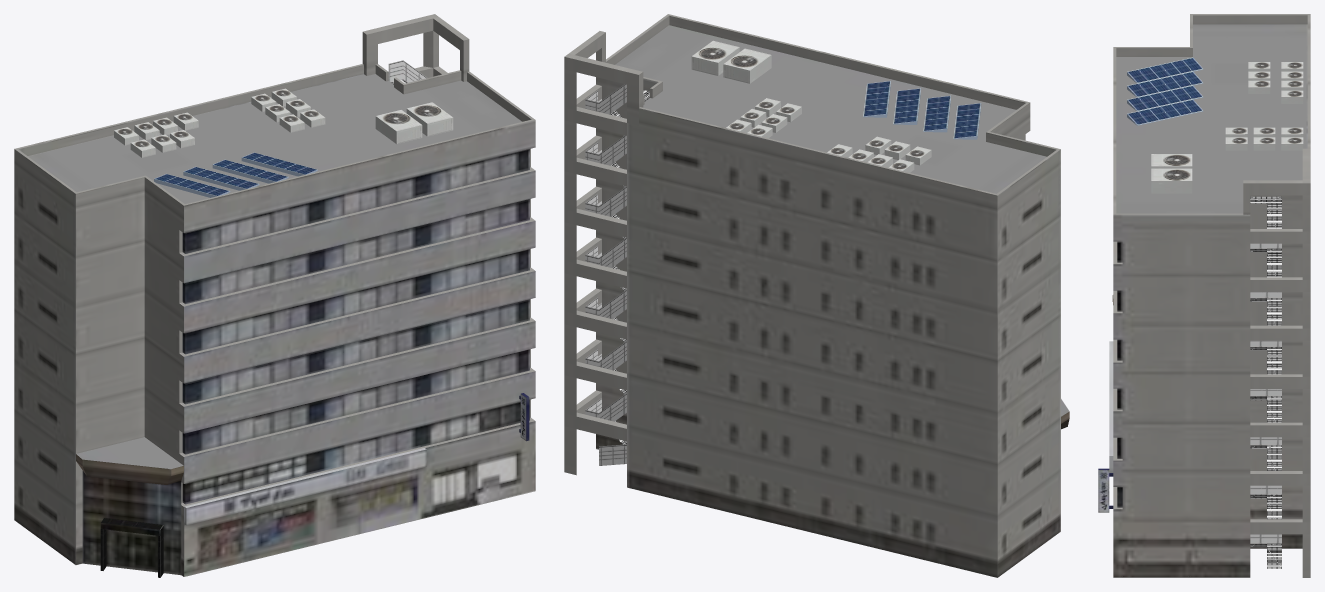
Rendered from jp_building.glb.
The picture shows the model from 3 angles, left to right: view 1: azimuth 30°, elevation 25°; view 2: azimuth 150°, elevation 25°; view 3: azimuth 270°, elevation 25°; orthographic projection. The views are drawn at different scales.
Parts seen in each view (by area): view 1: Plane, Cube.012, Cube.014, Cube.013, Cube.006, Cube.015, top.014, top.015, Cube.011, Cube.009, Cube.008, Cube.010; view 2: Plane, Cube.006, Cube.007, Cube.001, Cube, Cube.003, Cube.002, Cube.005, Cube.004, stairs.003, stairs, stairs.001 (+7 smaller); view 3: Plane, Cube.006, stairs.003, stairs, stairs.001, Cube.007, Cube, Cube.002, Cube.005, Cube.001, Cube.003, Cube.004 (+14 smaller).
Part boxes in pixels (bbox=[...]): Plane: bbox=[14, 64, 535, 576]; Cube.012: bbox=[82, 471, 181, 575]; Cube.014: bbox=[184, 448, 426, 525]; Cube.013: bbox=[76, 437, 183, 484]; Cube.006: bbox=[362, 14, 469, 81]; Cube.015: bbox=[100, 518, 163, 577]; top.014: bbox=[375, 110, 422, 143]; top.015: bbox=[406, 102, 453, 136]; Cube.011: bbox=[241, 152, 317, 176]; Cube.009: bbox=[183, 166, 259, 190]; Cube.008: bbox=[154, 173, 230, 197]; Cube.010: bbox=[212, 159, 288, 183]; Plane: bbox=[596, 14, 1060, 577]; Cube.006: bbox=[564, 31, 643, 125]; Cube.007: bbox=[564, 390, 626, 475]; Cube.001: bbox=[564, 339, 626, 416]; Cube: bbox=[564, 288, 626, 365]; Cube.003: bbox=[564, 237, 626, 314]; Cube.002: bbox=[564, 186, 626, 263]; Cube.005: bbox=[564, 135, 626, 212]; Cube.004: bbox=[564, 84, 626, 161]; stairs.003: bbox=[585, 84, 649, 187]; stairs: bbox=[585, 186, 626, 290]; stairs.001: bbox=[585, 290, 626, 394]; Plane: bbox=[1113, 14, 1310, 577]; Cube.006: bbox=[1243, 148, 1310, 231]; stairs.003: bbox=[1250, 196, 1281, 301]; stairs: bbox=[1250, 298, 1281, 400]; stairs.001: bbox=[1250, 400, 1281, 498]; Cube.007: bbox=[1250, 519, 1310, 577]; Cube: bbox=[1250, 422, 1310, 473]; Cube.002: bbox=[1250, 325, 1310, 376]; Cube.005: bbox=[1250, 277, 1310, 328]; Cube.001: bbox=[1250, 471, 1310, 522]; Cube.003: bbox=[1250, 374, 1310, 425]; Cube.004: bbox=[1250, 229, 1310, 279].
Size of the model in its own units: 30.91 by 28.28 by 13.78.
Materials: 4 (4 with a texture image).
